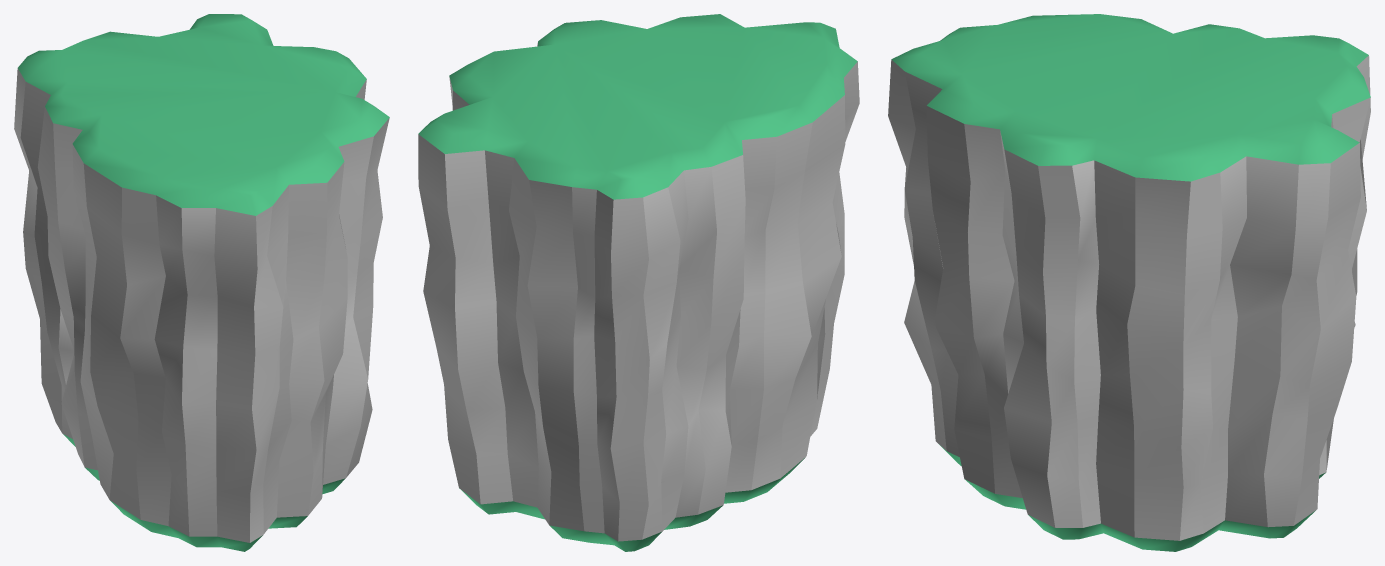
Rendered from Mod_Cliff_01.fbx.
3 renders of one model, left to right at view 1: azimuth 30°, elevation 25°; view 2: azimuth 150°, elevation 25°; view 3: azimuth 270°, elevation 25°, orthographic. The views are drawn at different scales.
Visible parts, largest first — view 1: Mod_Cliff_01; view 2: Mod_Cliff_01; view 3: Mod_Cliff_01.
Part boxes in pixels (x1,y1,x2,y2): Mod_Cliff_01: [14, 14, 389, 551]; Mod_Cliff_01: [418, 14, 859, 551]; Mod_Cliff_01: [888, 14, 1370, 551].
Bounding box in the file's own units: 986 × 1153 × 1243.
